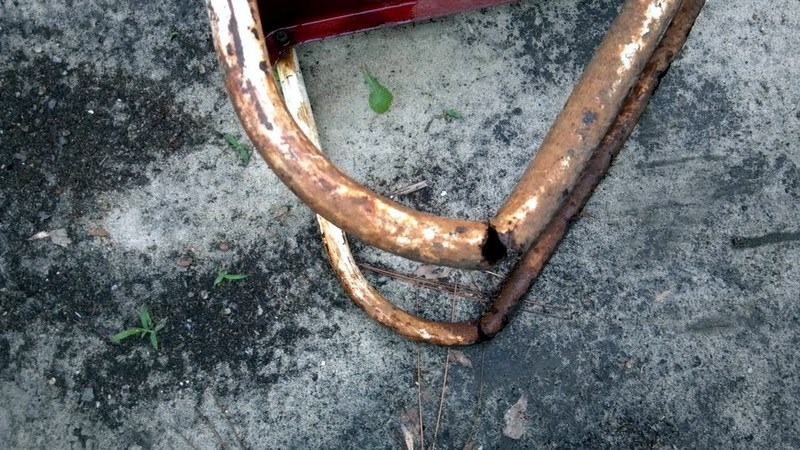rust: (543, 7, 667, 215), (383, 213, 529, 349), (231, 86, 370, 207)
